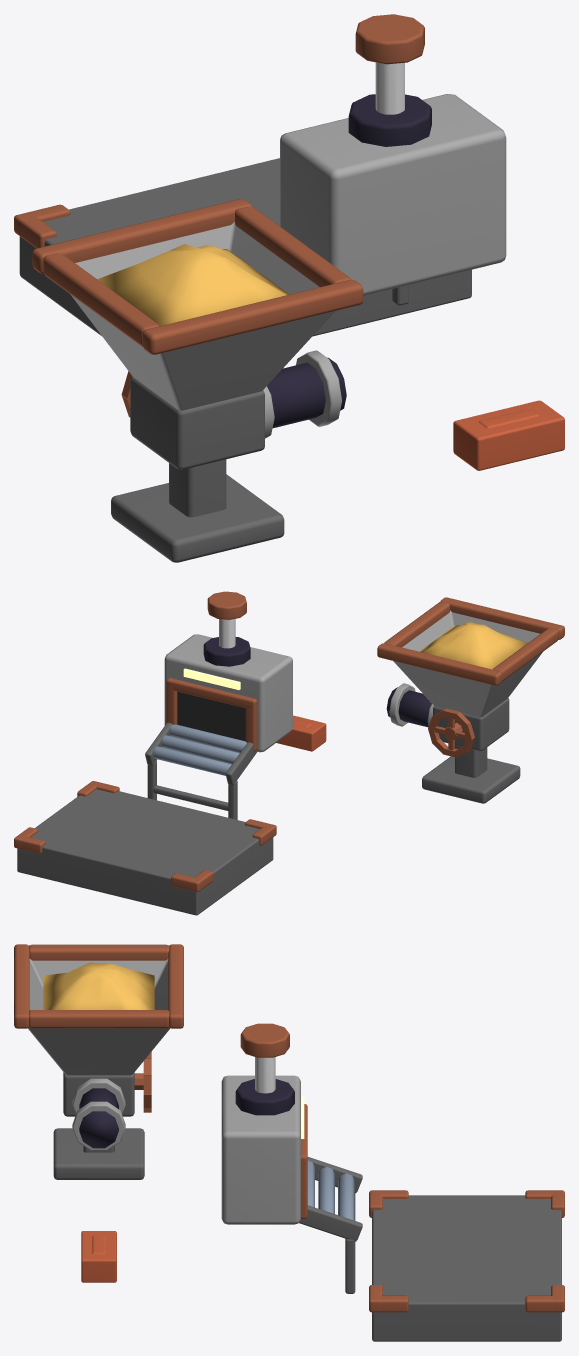
File: BrickMaker.fbx
3 renders of one model, top to bottom at view 1: azimuth 30°, elevation 25°; view 2: azimuth 150°, elevation 25°; view 3: azimuth 270°, elevation 25°, orthographic. The views are drawn at different scales.
Parts seen in each view (by area): view 1: Static, Pad, Hopper_Sand, Brick, Press_Head; view 2: Static, Pad, Hopper_Sand, Valve_Wheel, Press_Head, Brick, Kiln_Glow; view 3: Static, Pad, Hopper_Sand, Press_Head, Brick, Valve_Wheel.
Boxes of the visible parts, left/top/right/bottom form: Static: left=32, top=94, right=506, bottom=562; Pad: left=14, top=158, right=471, bottom=336; Hopper_Sand: left=97, top=244, right=288, bottom=325; Brick: left=453, top=400, right=564, bottom=470; Press_Head: left=355, top=14, right=424, bottom=114; Static: left=145, top=597, right=564, bottom=819; Pad: left=14, top=781, right=276, bottom=915; Hopper_Sand: left=419, top=622, right=527, bottom=669; Valve_Wheel: left=428, top=708, right=474, bottom=757; Press_Head: left=207, top=591, right=246, bottom=648; Brick: left=276, top=715, right=326, bottom=751; Kiln_Glow: left=183, top=668, right=240, bottom=689; Static: left=14, top=944, right=362, bottom=1293; Pad: left=369, top=1190, right=564, bottom=1341; Hopper_Sand: left=43, top=962, right=154, bottom=1009; Press_Head: left=240, top=1023, right=289, bottom=1093; Brick: left=81, top=1231, right=116, bottom=1282; Valve_Wheel: left=134, top=1052, right=151, bottom=1112.
Size of the model in its own units: 2.37 by 1.42 by 2.78.
